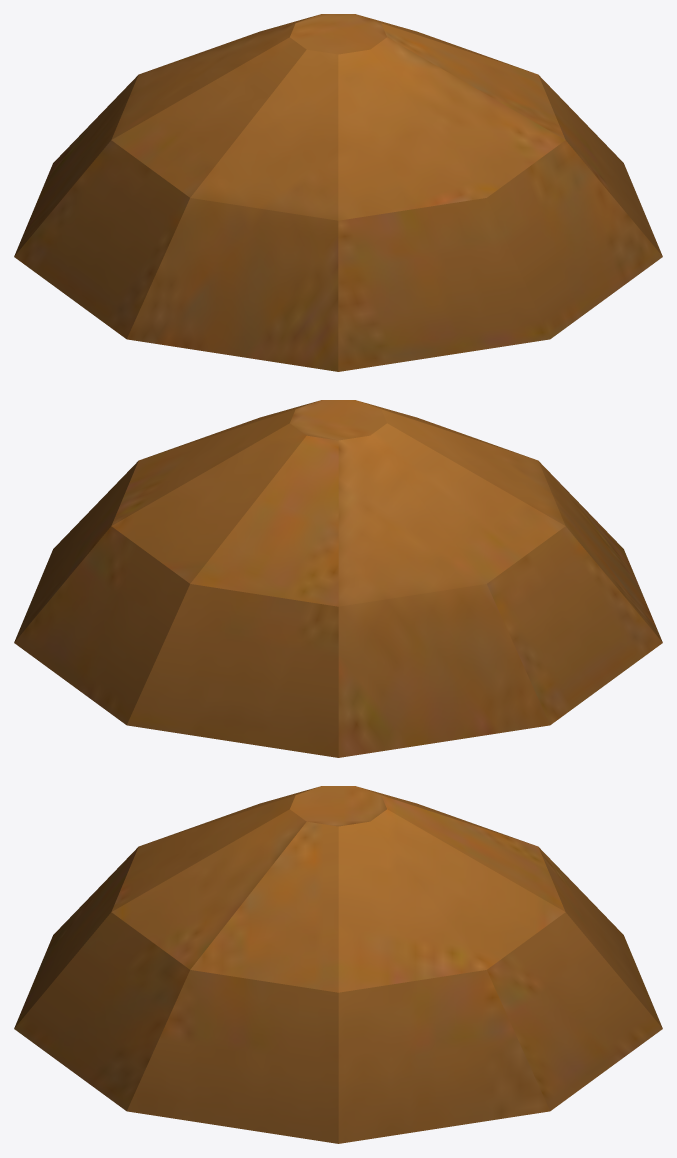
File: yumako-mash.glb
3 views of the same model, one above another, from view 1: azimuth 30°, elevation 25°; view 2: azimuth 150°, elevation 25°; view 3: azimuth 270°, elevation 25° (orthographic).
Parts seen in each view (by area): view 1: yumako-mash; view 2: yumako-mash; view 3: yumako-mash.
Part boxes in pixels (box(x1,y1,x2,y2)): yumako-mash: box(14, 14, 662, 371); yumako-mash: box(14, 400, 662, 757); yumako-mash: box(14, 786, 662, 1143).
Size of the model in its own units: 0.2328 by 0.08 by 0.2364.
1 material, 1 textured.
